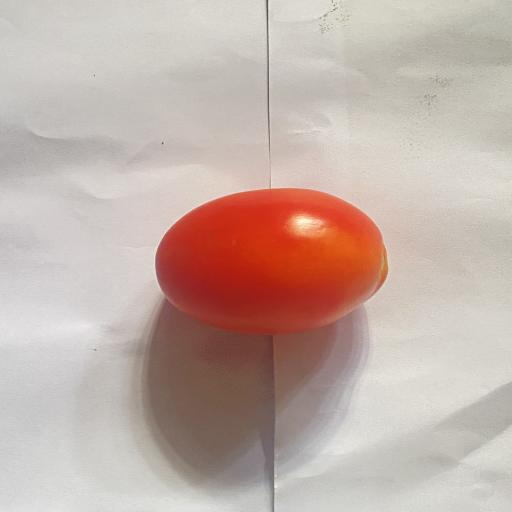ripe: (156, 188, 387, 334)
